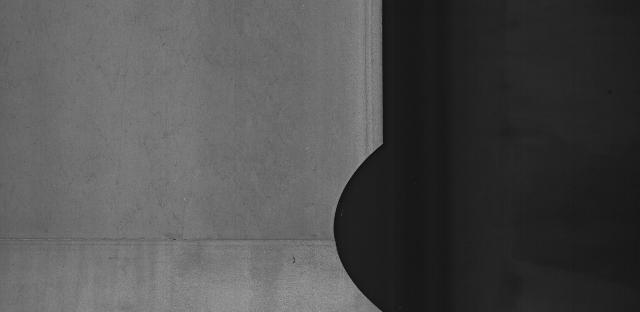welding_line: (2, 227, 354, 259)
